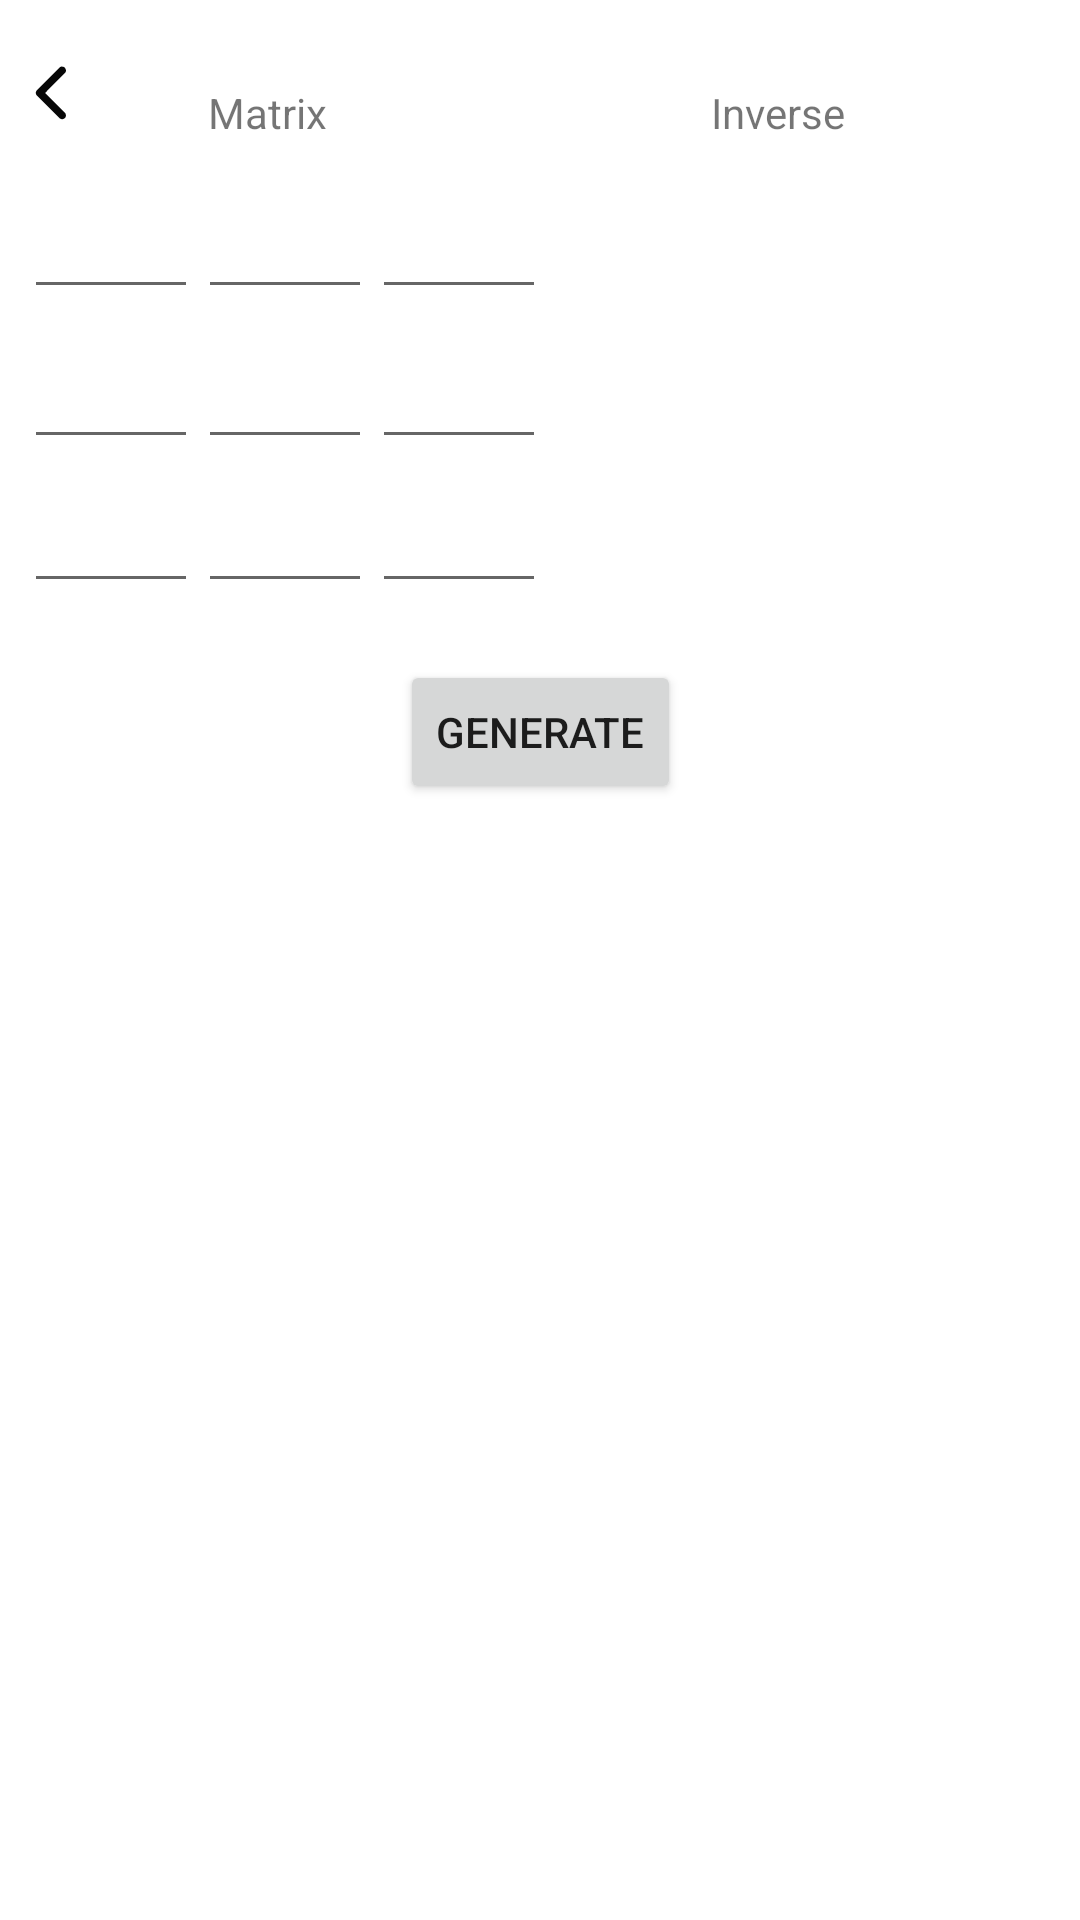

Where to tap for icons on this 1080 × 1920 app screen, as point (x, y):
back: point (50, 93)
